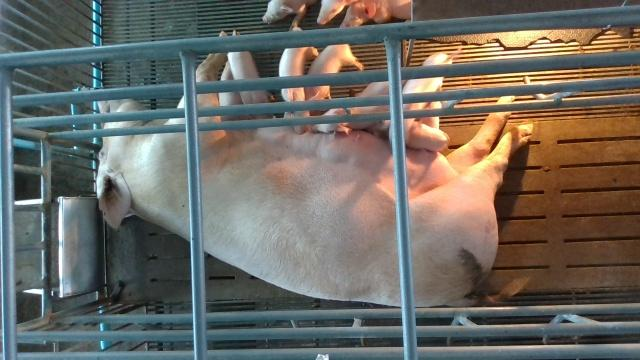piglet: (309, 80, 390, 134), (279, 28, 319, 135), (403, 54, 452, 133), (304, 44, 363, 101), (228, 52, 276, 119), (371, 119, 450, 152), (340, 0, 410, 27), (263, 0, 321, 31), (317, 0, 358, 25)
sow-sleep-lactate: (96, 31, 535, 306)
